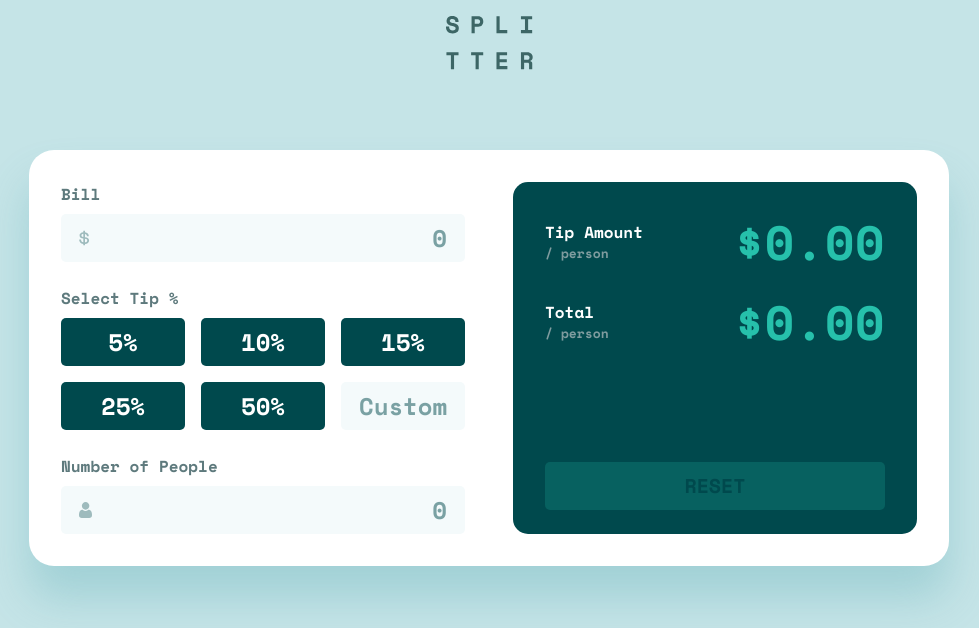
Tipcalculator component › resets all inputs and calculated values when clicking the reset button
This screenshot has width=979, height=628.
Type "142.55" into the number field labelled "Bill" at (268, 238), box [90,220,447,256]
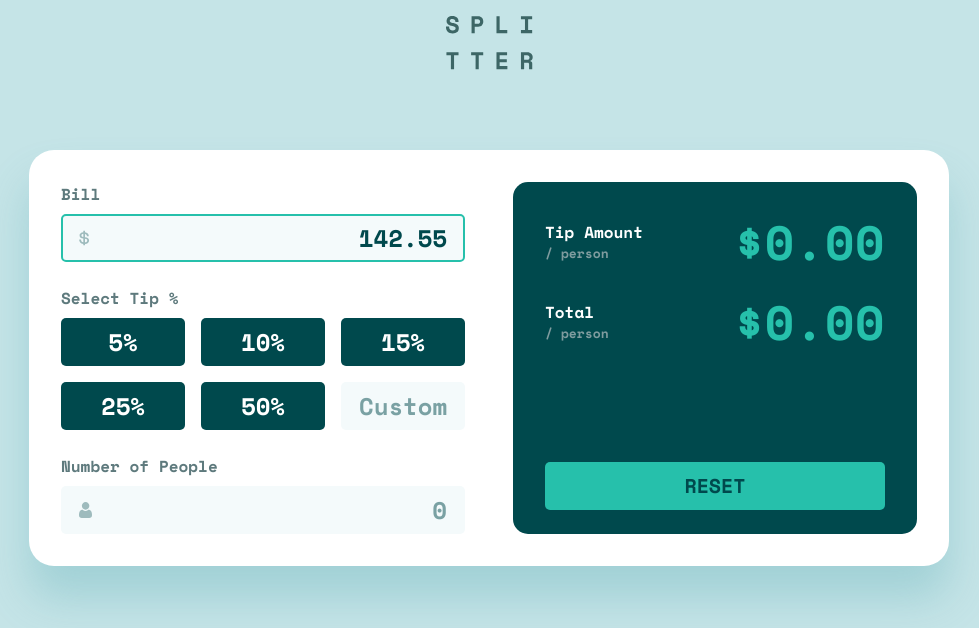
Type "15" into the number field named "custom tip percentage" at (403, 406), box [359,388,447,424]
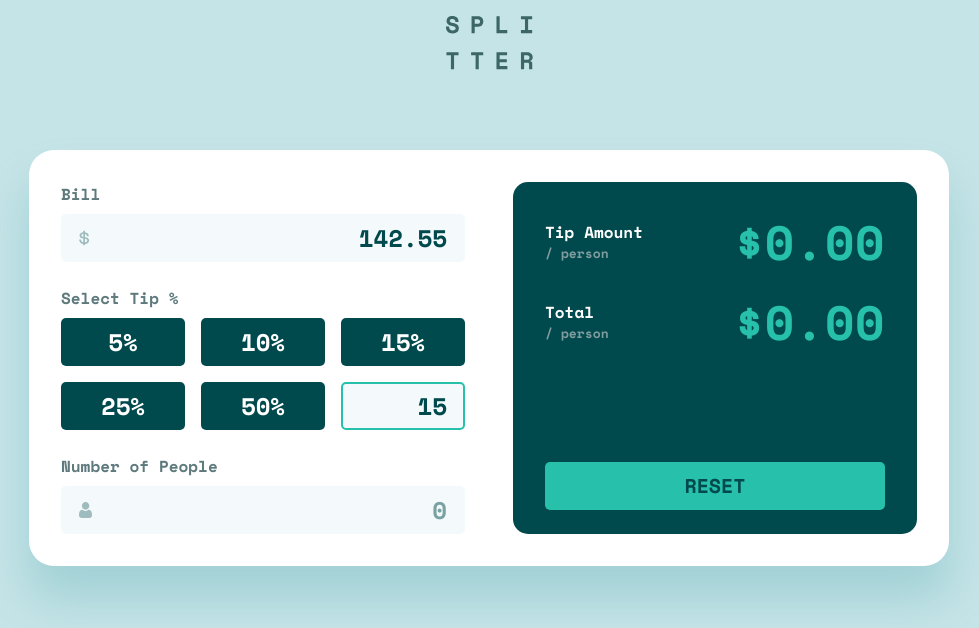
Type "5" into the number field labelled "Number of People" at (269, 510), box [92,492,447,528]
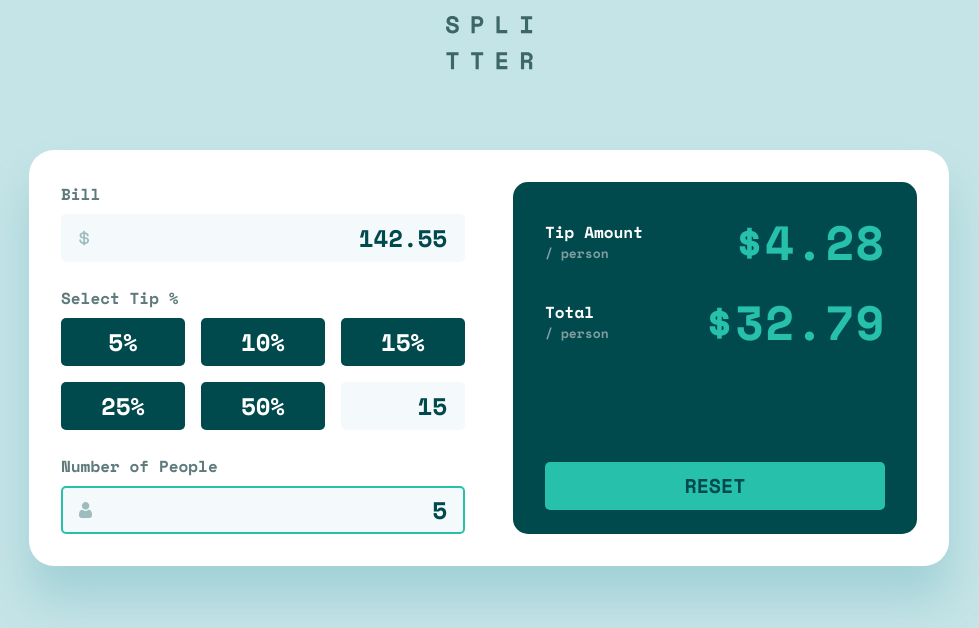
Click the button with class "reset-btn" at (715, 486), box [545,462,885,510]
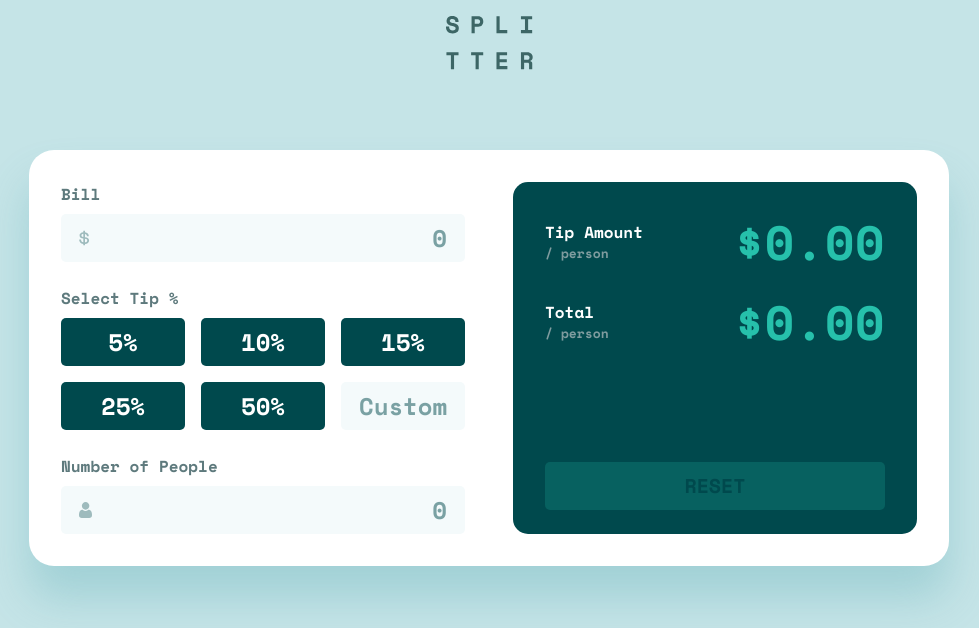
Now the text with id "tip-amount-display" reads "0.00", box [765,206,885,277]
Now the text with id "total-amount-display" reads "0.00", box [765,286,885,357]
